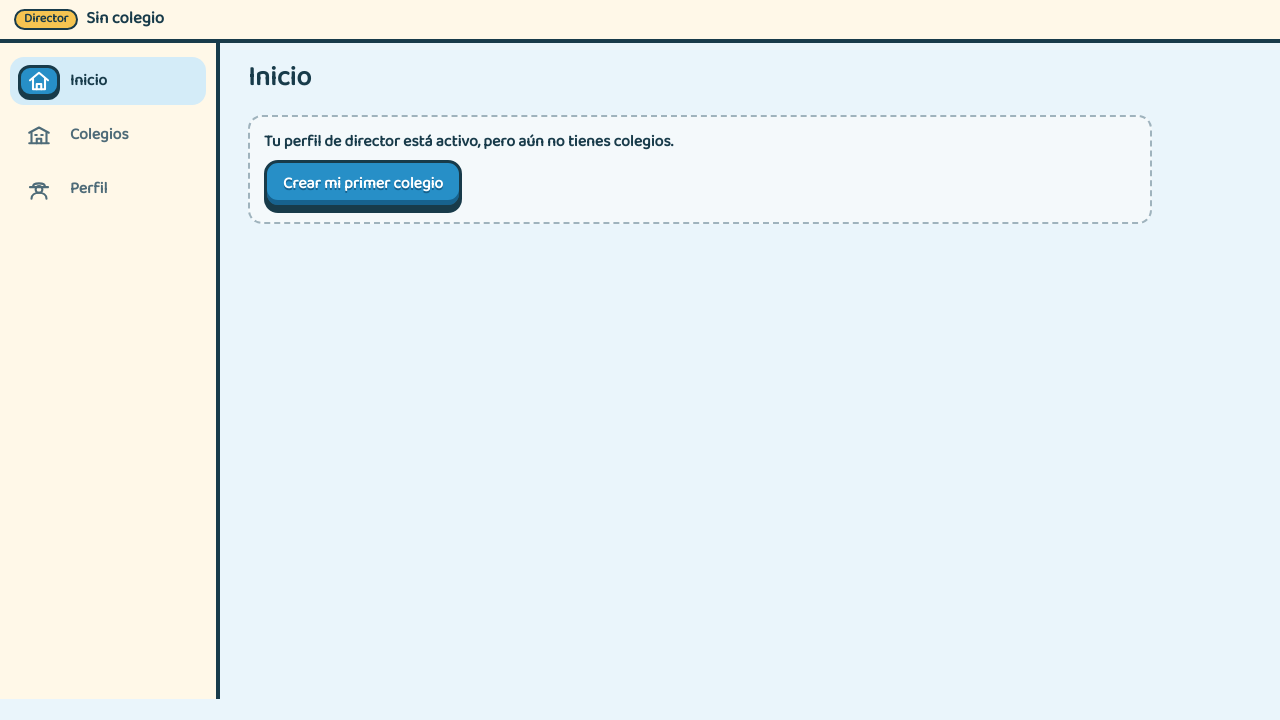
Test: recorridos de los paneles con contratos HTTP › un director sin colegios crea uno y entra al contexto confirmado por el servidor
Click the link "Crear mi primer colegio". click: [363, 184]
box: [264,160,462,208]
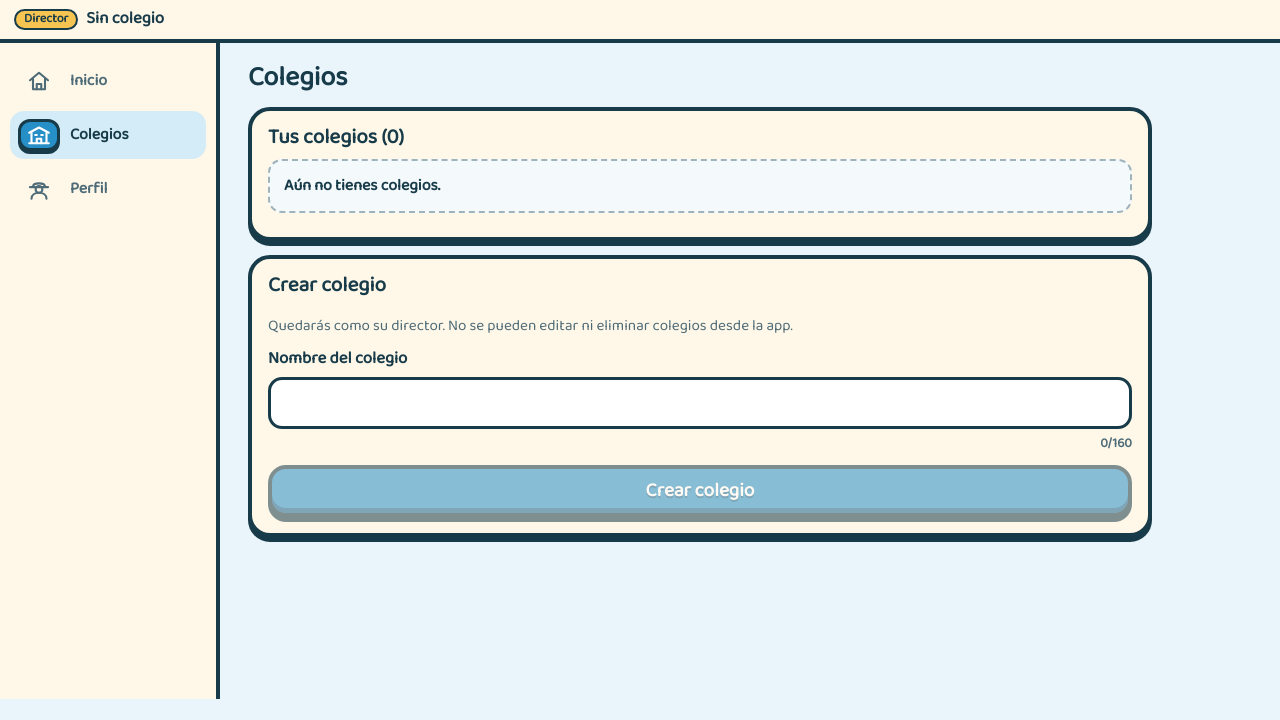
Type "Escuela nueva" into the field labelled "Nombre del colegio". click: [700, 403]
box: [268,377,1132,429]
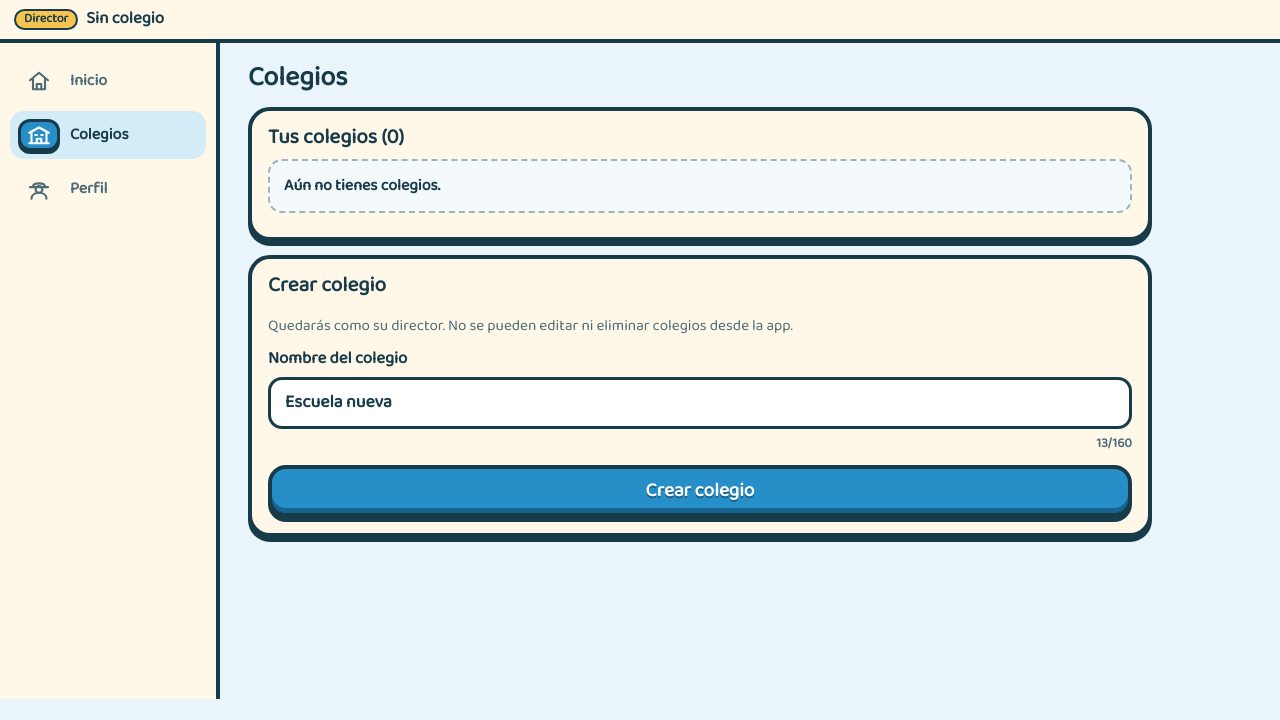
Click the button "Crear colegio". click: [700, 491]
box: [268,465,1132,517]
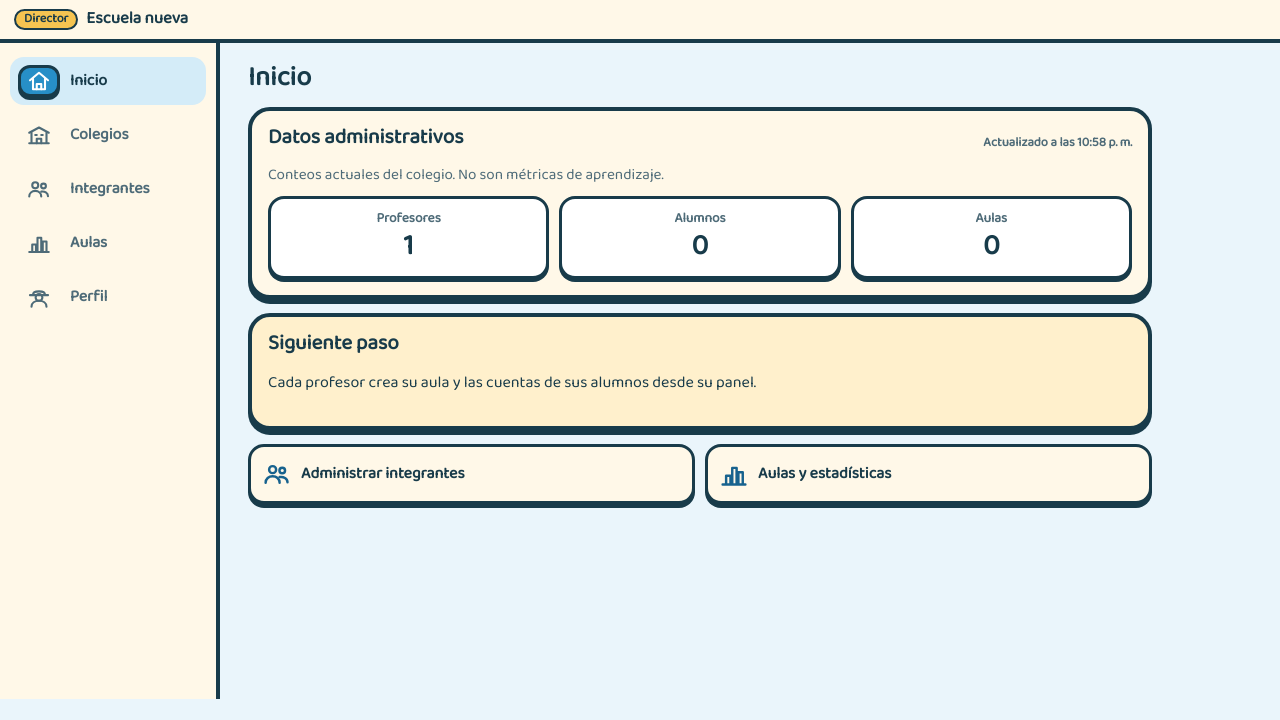
Now the heading "Datos administrativos" is shown, box [268,127,463,150]
Now the text "Escuela nueva" is shown, box [86,8,188,31]
